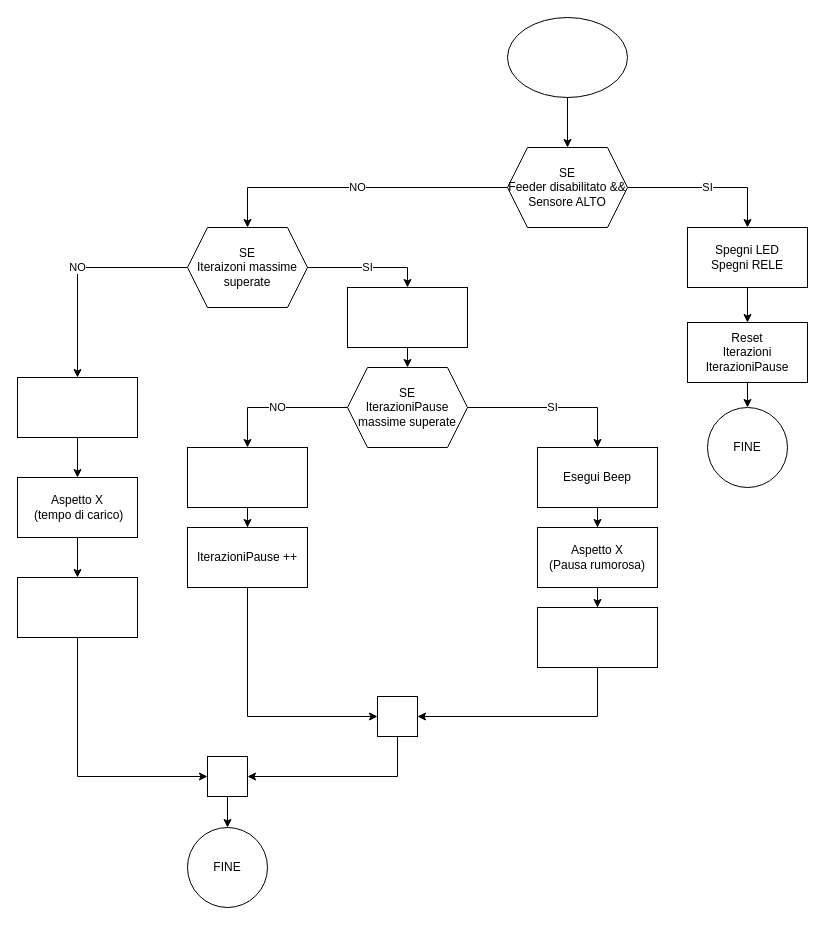
The diagram is 825 pixels wide and 925 high, and some of its shapes have lost their labels. The shapes that lost their labels are listed below. From the top down, each one's box as (x1, y1, x2, y2) in pixels, then its label:
(506, 16, 628, 98): Loop
(346, 286, 468, 348): Reset Iterazioni
(16, 376, 138, 438): Accendo LED Aceendo RELE
(186, 446, 308, 508): Aspetto X (Pausa silenziosa)
(16, 576, 138, 638): Iterazioni ++
(536, 606, 658, 668): Reset IterazioniPause
